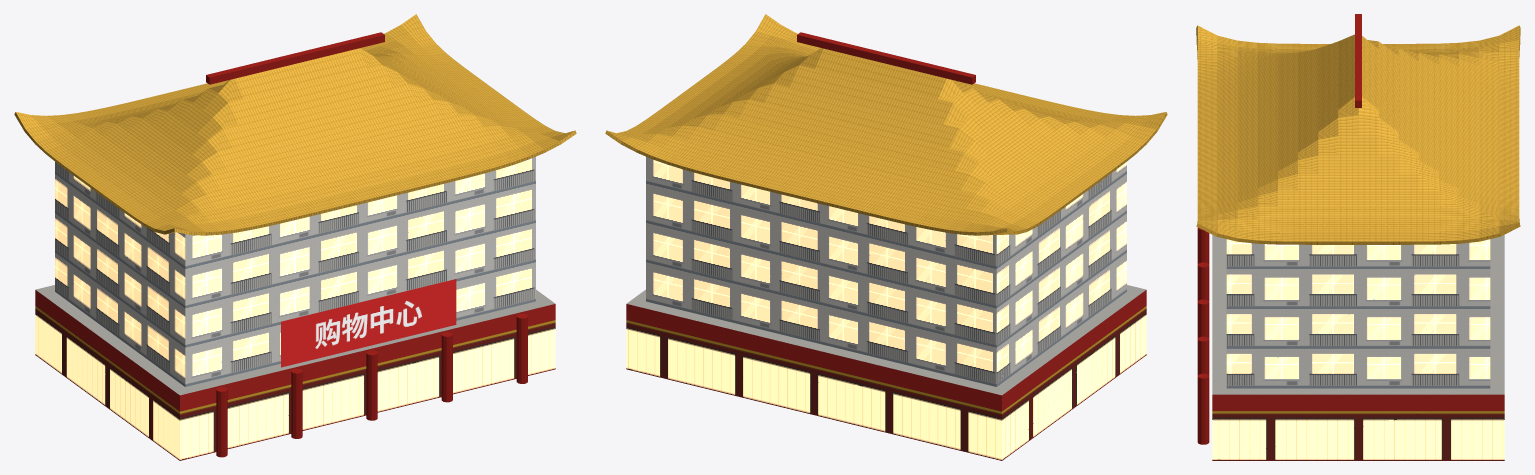
The model's file is chn_mall.glb.
3 renders of one model, left to right at view 1: azimuth 30°, elevation 25°; view 2: azimuth 150°, elevation 25°; view 3: azimuth 270°, elevation 25°, orthographic.
Visible parts, largest first — view 1: croof; view 2: croof; view 3: croof.
Part boxes in pixels (<box>): croof: <box>14,14,576,460</box>; croof: <box>605,14,1167,460</box>; croof: <box>1196,14,1520,460</box>.
Size of the model in its own units: 32.11 by 23.45 by 22.17.
Materials: 6 (4 with a texture image).
